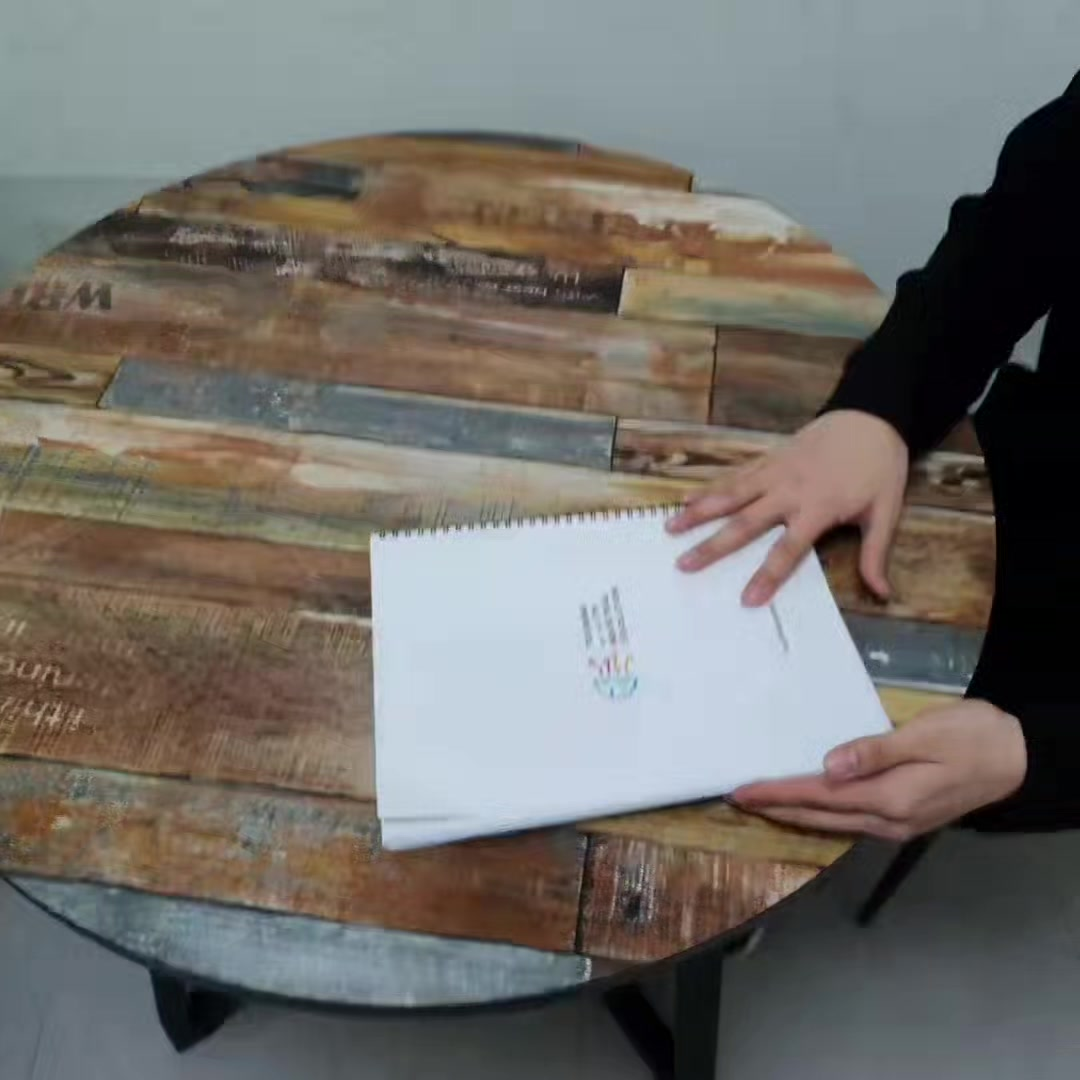book: (365, 473, 903, 854)
